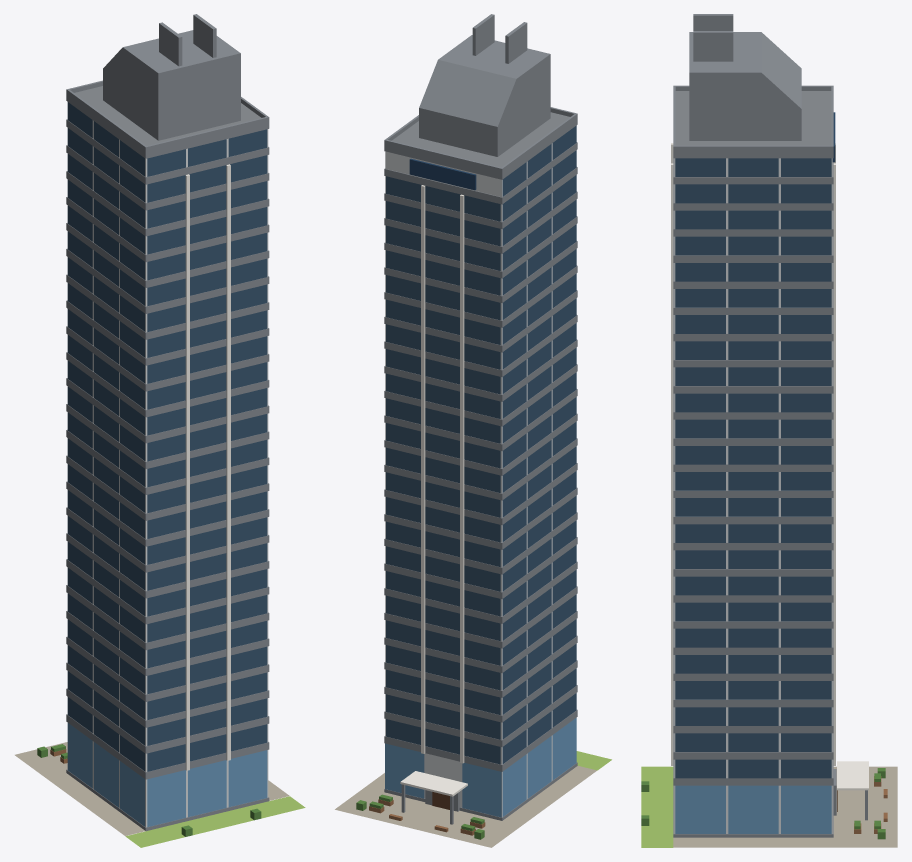
3 renders of one model, left to right at view 1: azimuth 30°, elevation 25°; view 2: azimuth 150°, elevation 25°; view 3: azimuth 270°, elevation 25°, orthographic. The views are drawn at different scales.
Visible parts, largest first — view 1: window_band (×72), spandrel (×26), storefront (×6), crown, pilaster (×2), crown_base, walls (×2), plaza, lawn, roof, crown_fin (×2), parapet; view 2: window_band (×69), spandrel (×26), crown, storefront (×5), pilaster (×2), walls (×2), plaza, crown_base, roof, crown_fin (×2), sign, canopy (+1 smaller); view 3: window_band (×72), spandrel (×26), storefront (×3), crown, plaza, walls, pilaster (×2), crown_base, roof, lawn, crown_fin (×2), canopy (+1 smaller).
Boxes of the visible parts, x1=… form: window_band (×72): x1=147, y1=129, x2=267, y2=771; spandrel (×26): x1=66, y1=94, x2=269, y2=831; storefront (×6): x1=67, y1=723, x2=267, y2=826; crown: x1=103, y1=30, x2=240, y2=109; pilaster (×2): x1=185, y1=164, x2=230, y2=770; crown_base: x1=103, y1=69, x2=240, y2=140; walls (×2): x1=92, y1=120, x2=268, y2=827; plaza: x1=15, y1=742, x2=289, y2=835; lawn: x1=125, y1=796, x2=305, y2=847; roof: x1=74, y1=86, x2=261, y2=145; crown_fin (×2): x1=159, y1=14, x2=216, y2=66; parapet: x1=144, y1=116, x2=269, y2=151; window_band (×69): x1=386, y1=176, x2=500, y2=764; spandrel (×26): x1=384, y1=118, x2=577, y2=820; crown: x1=419, y1=35, x2=550, y2=126; storefront (×5): x1=385, y1=718, x2=576, y2=817; pilaster (×2): x1=421, y1=185, x2=464, y2=763; walls (×2): x1=385, y1=143, x2=552, y2=816; plaza: x1=335, y1=766, x2=596, y2=847; crown_base: x1=419, y1=88, x2=550, y2=156; roof: x1=392, y1=112, x2=569, y2=167; crown_fin (×2): x1=472, y1=14, x2=527, y2=63; sign: x1=409, y1=158, x2=476, y2=190; canopy: x1=400, y1=771, x2=467, y2=796; window_band (×72): x1=675, y1=158, x2=831, y2=778; spandrel (×26): x1=673, y1=151, x2=833, y2=837; storefront (×3): x1=675, y1=785, x2=831, y2=833; crown: x1=689, y1=32, x2=801, y2=108; plaza: x1=673, y1=766, x2=897, y2=847; walls: x1=674, y1=158, x2=832, y2=777; pilaster (×2): x1=671, y1=163, x2=835, y2=765; crown_base: x1=689, y1=109, x2=801, y2=140; roof: x1=675, y1=91, x2=831, y2=145; lawn: x1=641, y1=766, x2=673, y2=847; crown_fin (×2): x1=693, y1=14, x2=733, y2=61; canopy: x1=837, y1=761, x2=868, y2=790.
Size of the model in its own units: 24 by 108 by 32.
